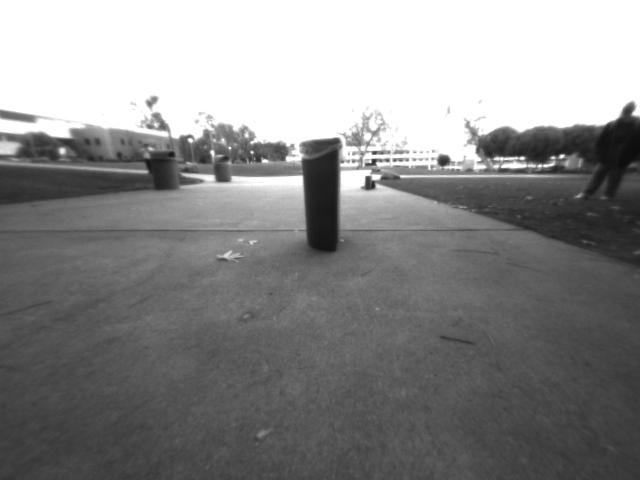trashcan_open: (297, 136, 349, 256)
